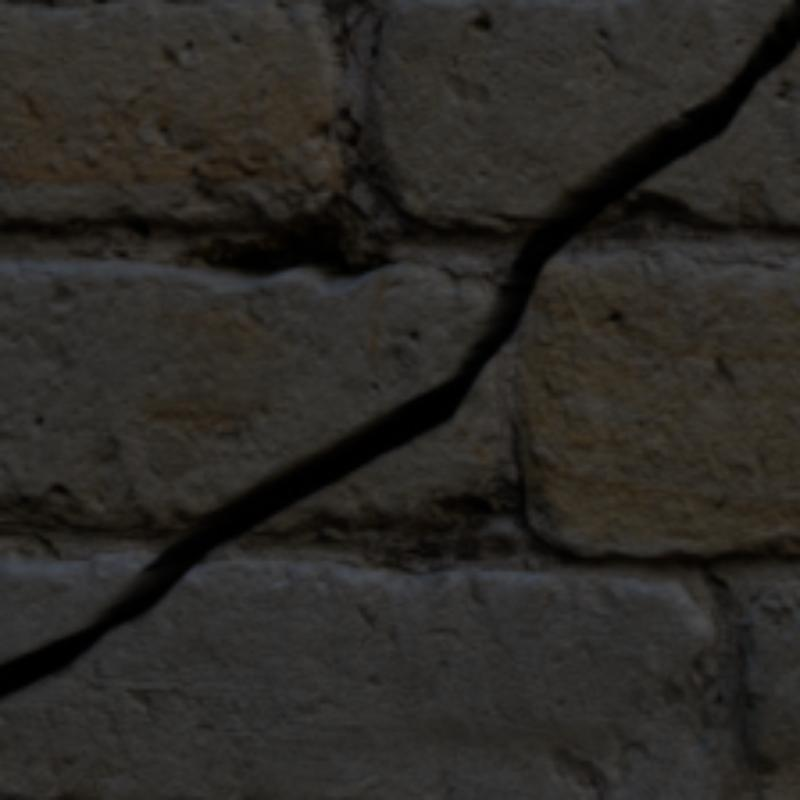pothole: (0, 0, 796, 696)
